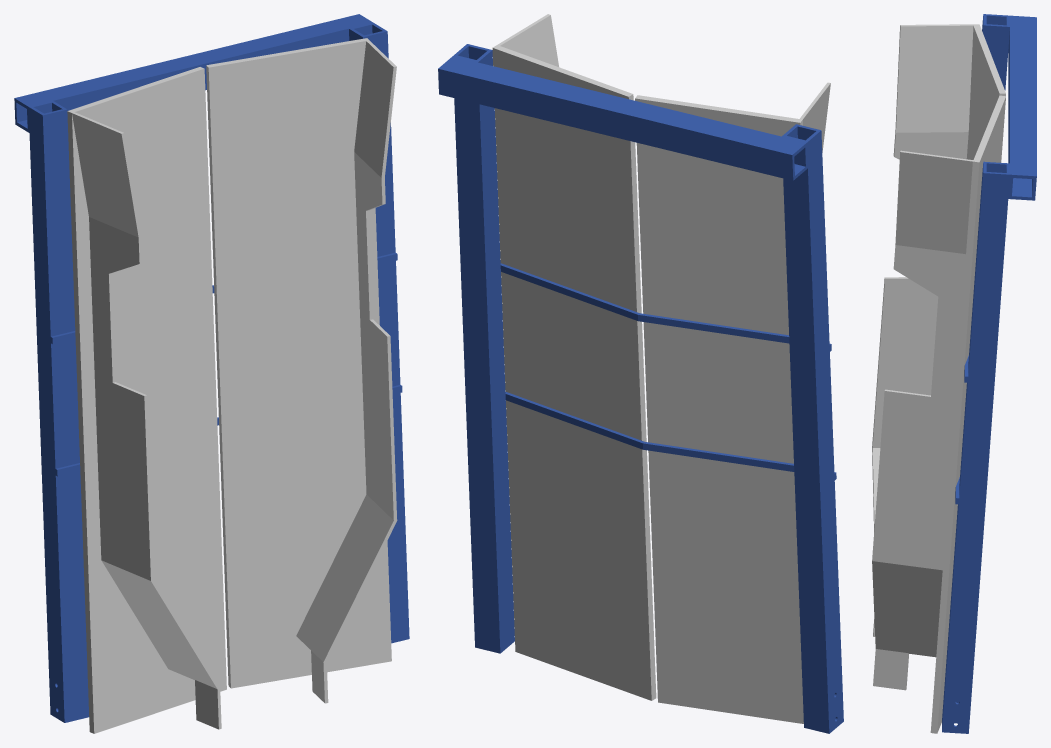
The picture shows the model from 3 angles, left to right: view 1: azimuth 30°, elevation 25°; view 2: azimuth 150°, elevation 25°; view 3: azimuth 270°, elevation 25°; orthographic projection. The views are drawn at different scales.
Visible parts, largest first — view 1: Part 1 (×4), Part 2; view 2: Part 1 (×4), Part 2, Intake Cross Brace (×2); view 3: Part 1 (×4), Part 2.
Part boxes in pixels (x1,y1,x2,y2): Part 1 (×4): (14, 14, 409, 722); Part 2: (67, 67, 226, 733); Part 1 (×4): (438, 14, 843, 733); Part 2: (635, 82, 830, 723); Intake Cross Brace (×2): (500, 263, 836, 480); Part 1 (×4): (872, 14, 1036, 733); Part 2: (872, 24, 1005, 636).
Bounding box in the file's own units: 0.3556 × 0.6023 × 0.1558.
